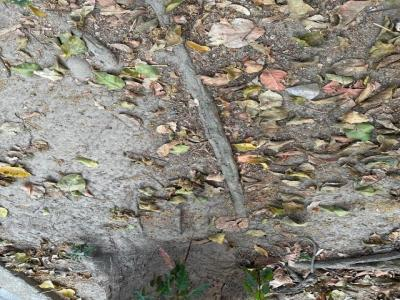Root: (175, 39, 247, 216), (294, 252, 399, 270), (149, 0, 168, 26)
